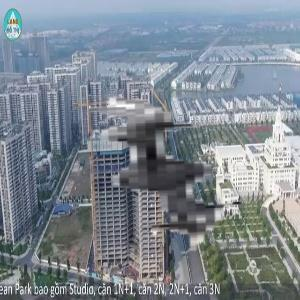drone: (55, 78, 252, 275)
